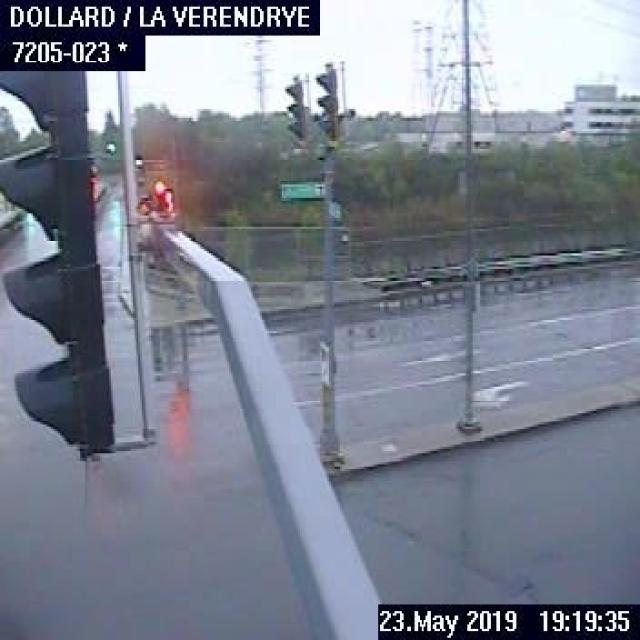vehicle: (0, 197, 27, 244)
